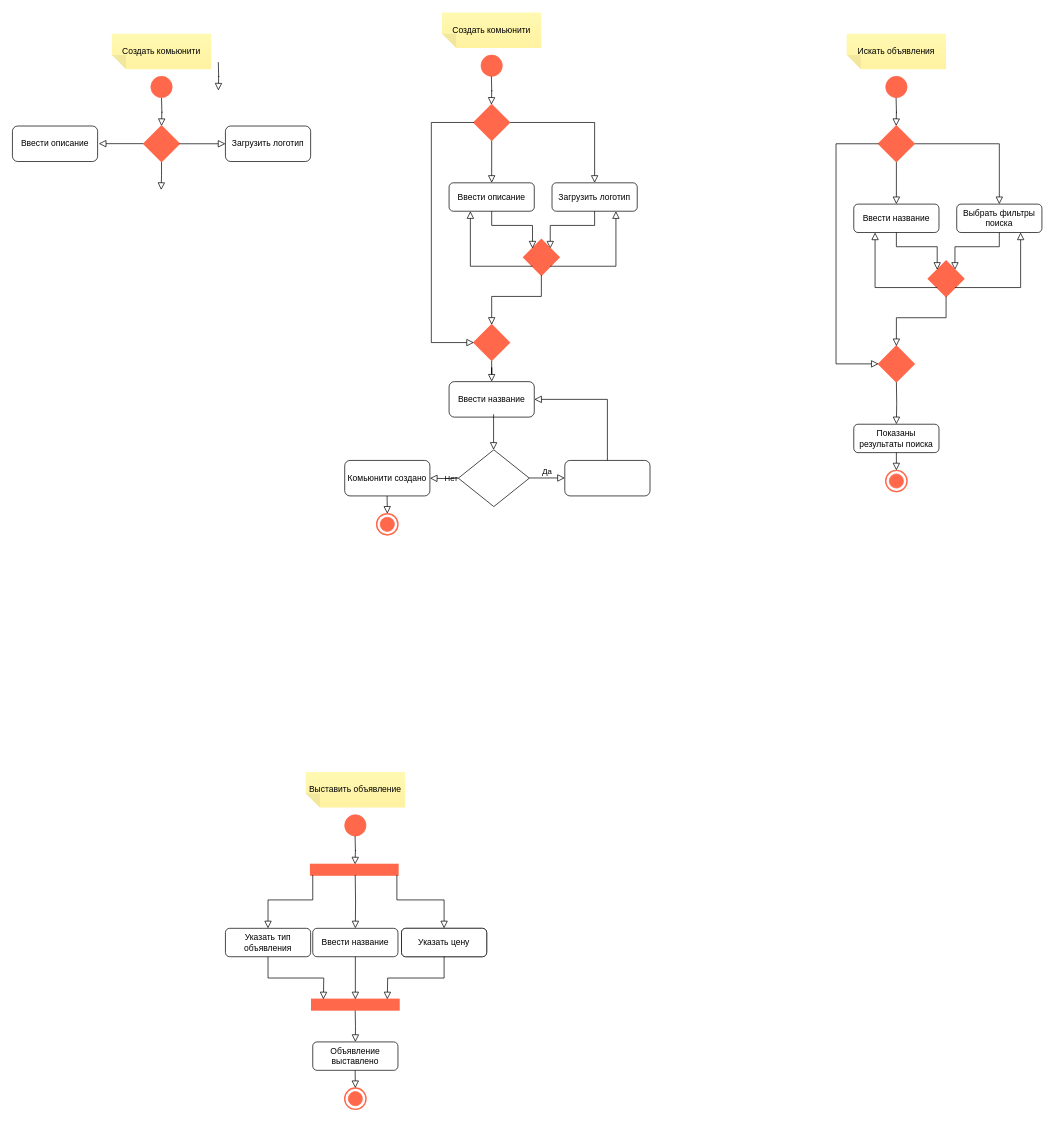
Image size: 1054x1122. Some labels were removed from this diagram. Here are the shapes that lost their labels. From the top down, the box of each, then its label:
(458, 449, 529, 507): Название занято?
(564, 460, 650, 496): Выберите другое название
